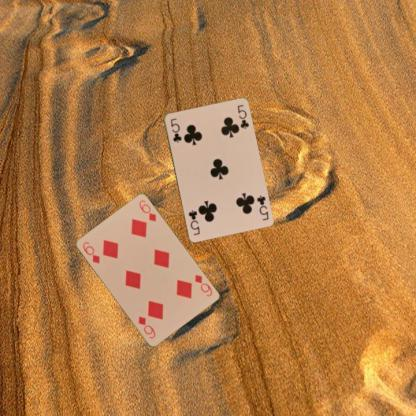5c: (254, 192, 270, 222), (168, 116, 182, 144)
6d: (192, 272, 214, 298), (80, 239, 100, 265)
